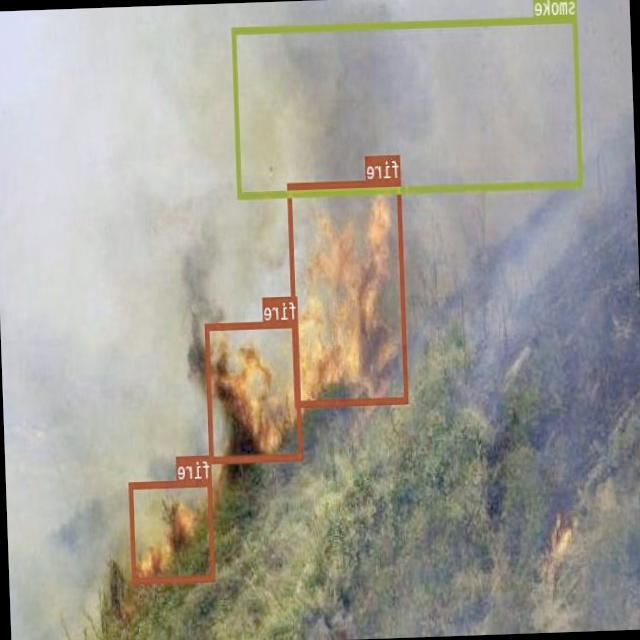fire: (288, 178, 409, 406), (205, 319, 304, 462), (129, 478, 215, 583)
smoke: (232, 15, 583, 197)
